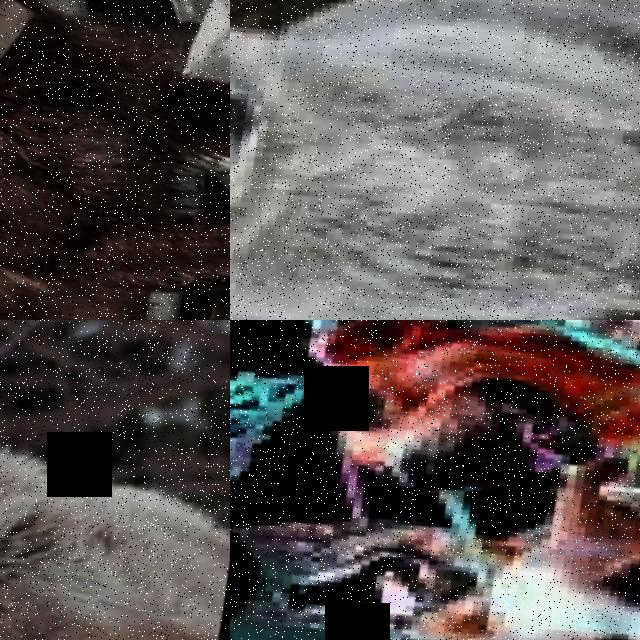dog: (261, 320, 640, 565), (415, 433, 640, 640)
wolf: (230, 0, 640, 320), (0, 0, 230, 320), (0, 320, 230, 640)
